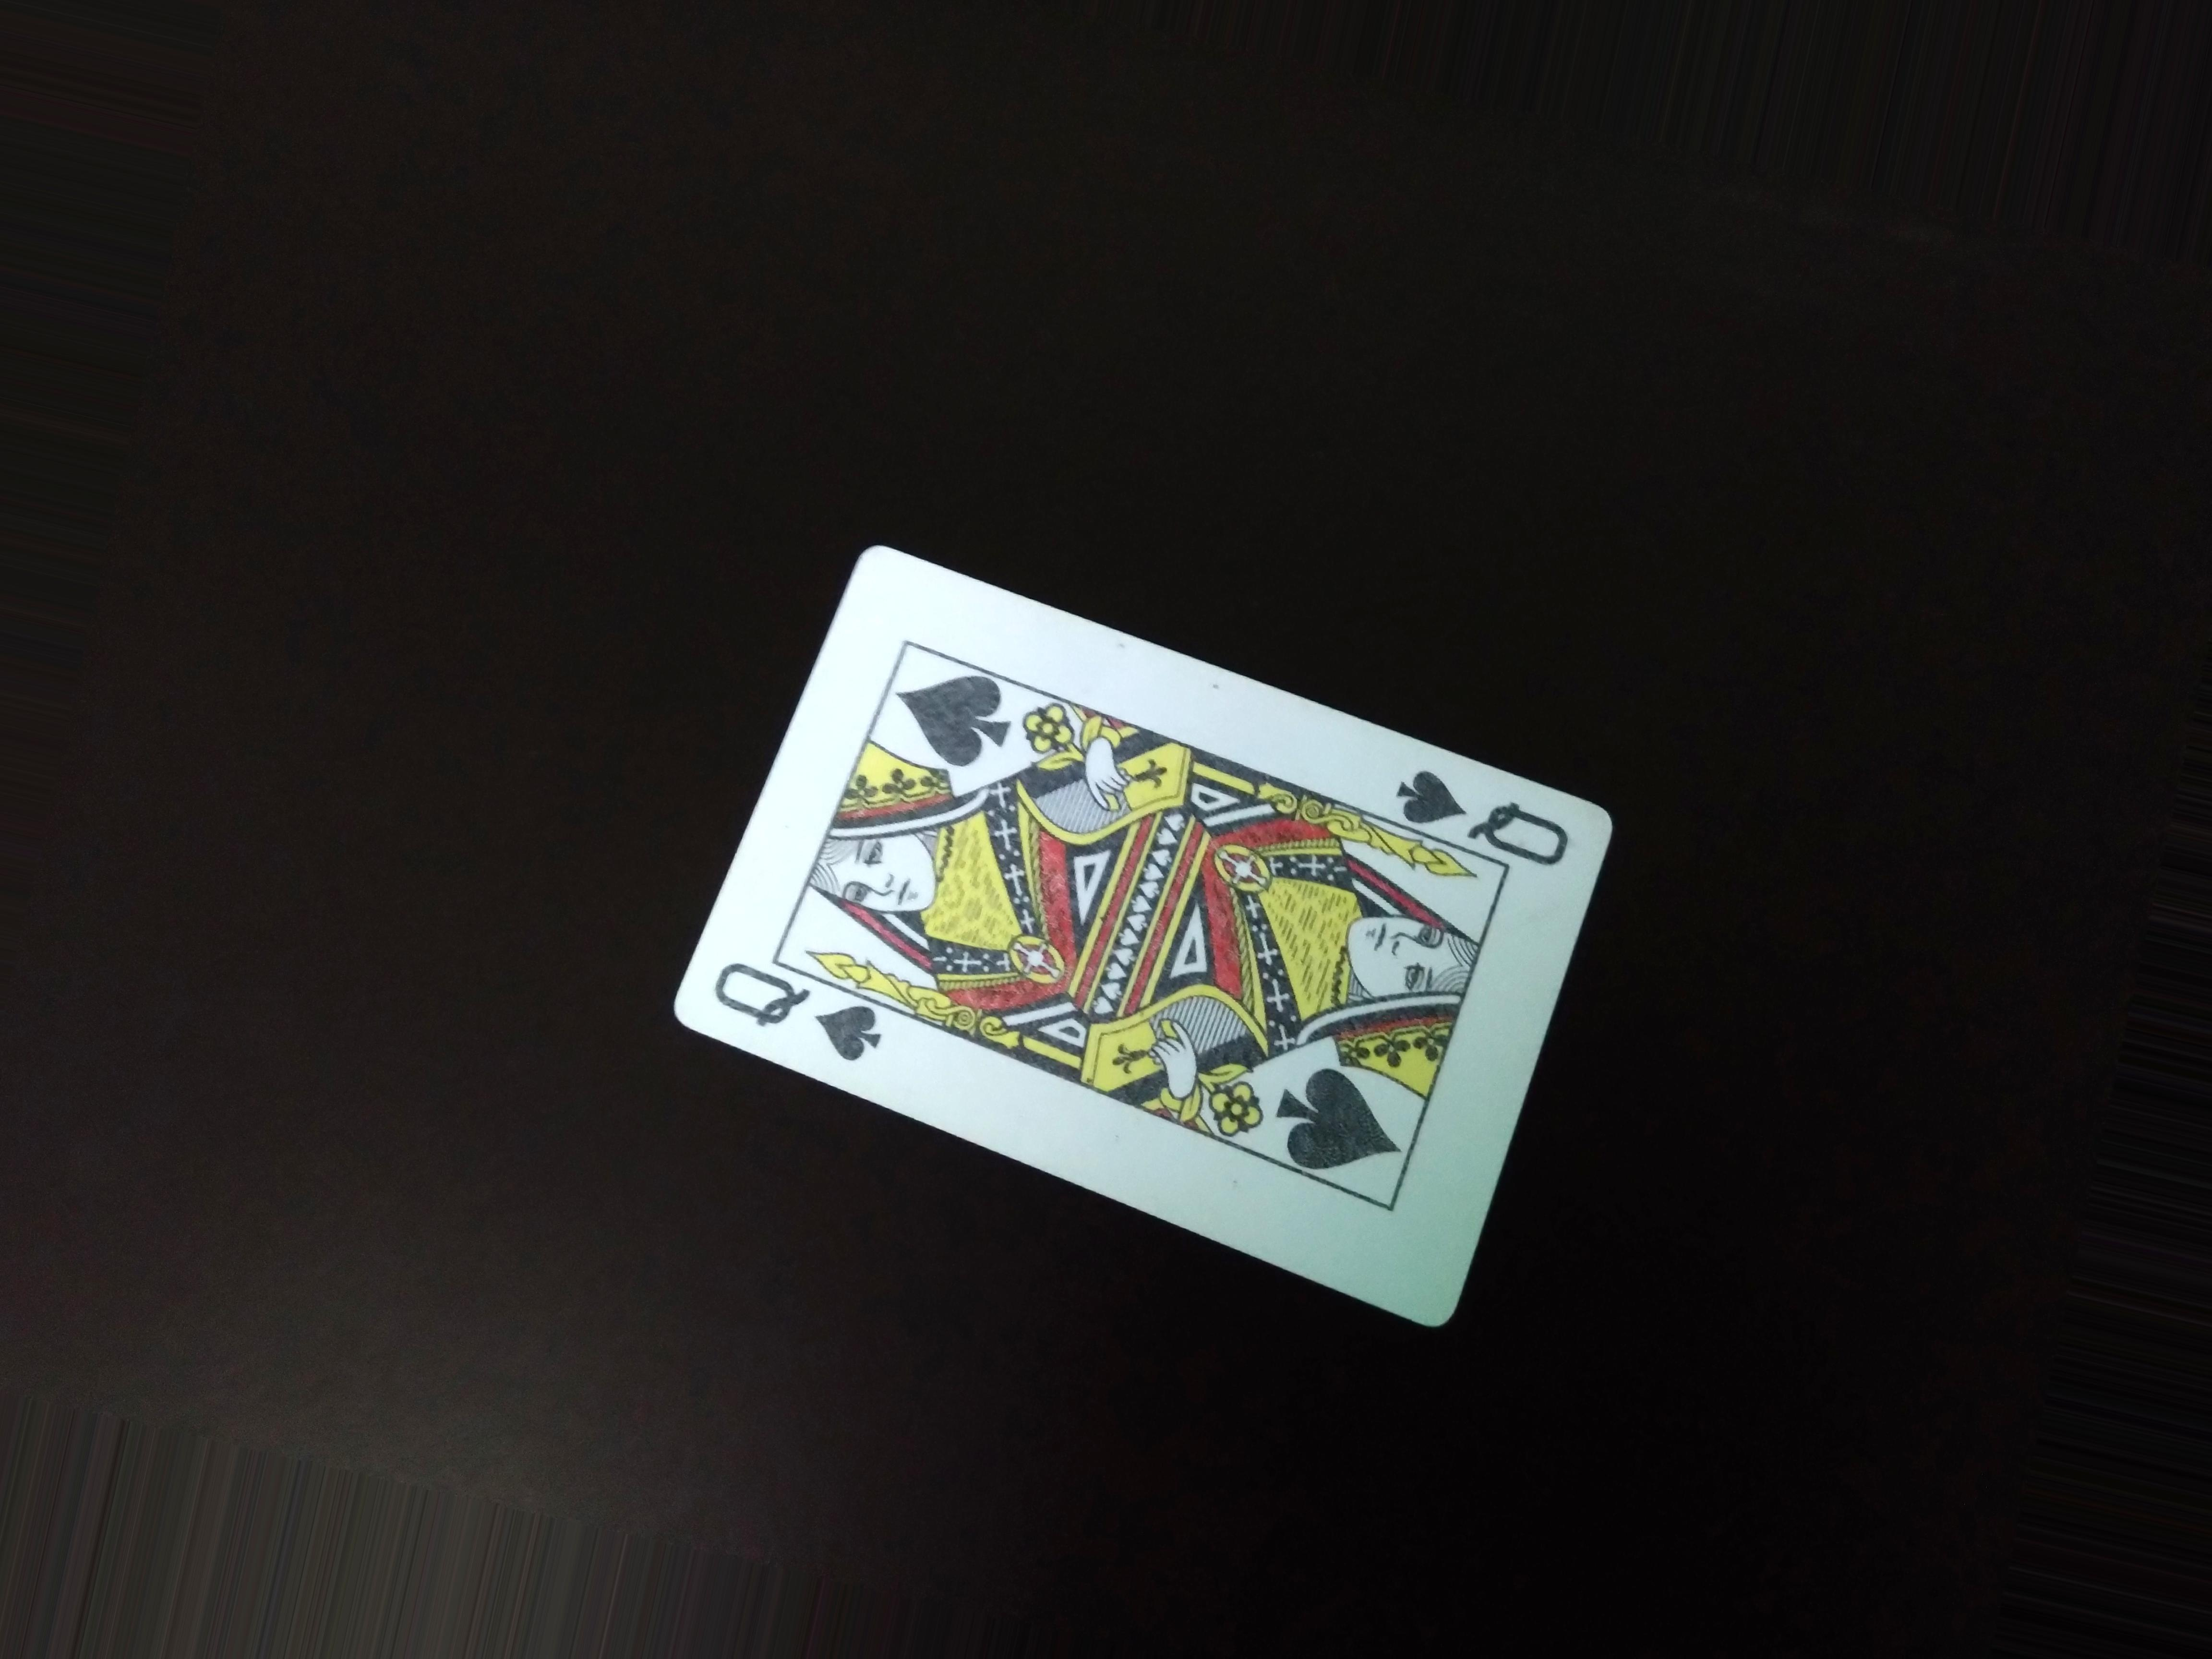QS: (667, 927, 883, 1066)
